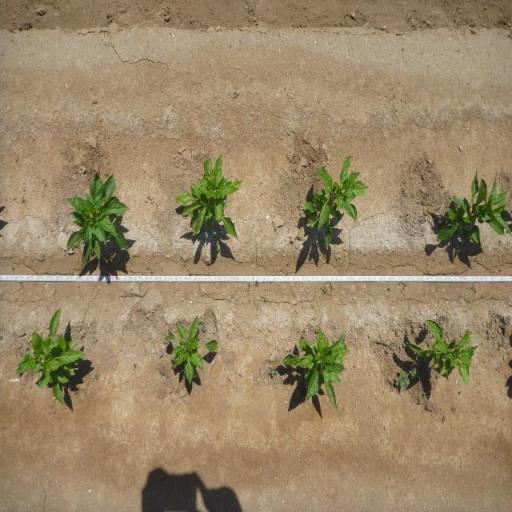plant: (15, 306, 90, 412), (302, 151, 370, 254), (62, 172, 136, 266), (423, 170, 512, 248), (280, 327, 350, 414), (179, 154, 246, 237), (404, 318, 479, 389), (163, 314, 219, 387)
weed: (396, 370, 410, 393), (410, 367, 419, 381), (268, 368, 278, 378), (320, 285, 328, 295), (214, 244, 222, 253), (159, 352, 164, 359), (94, 374, 98, 380), (202, 326, 206, 332)
